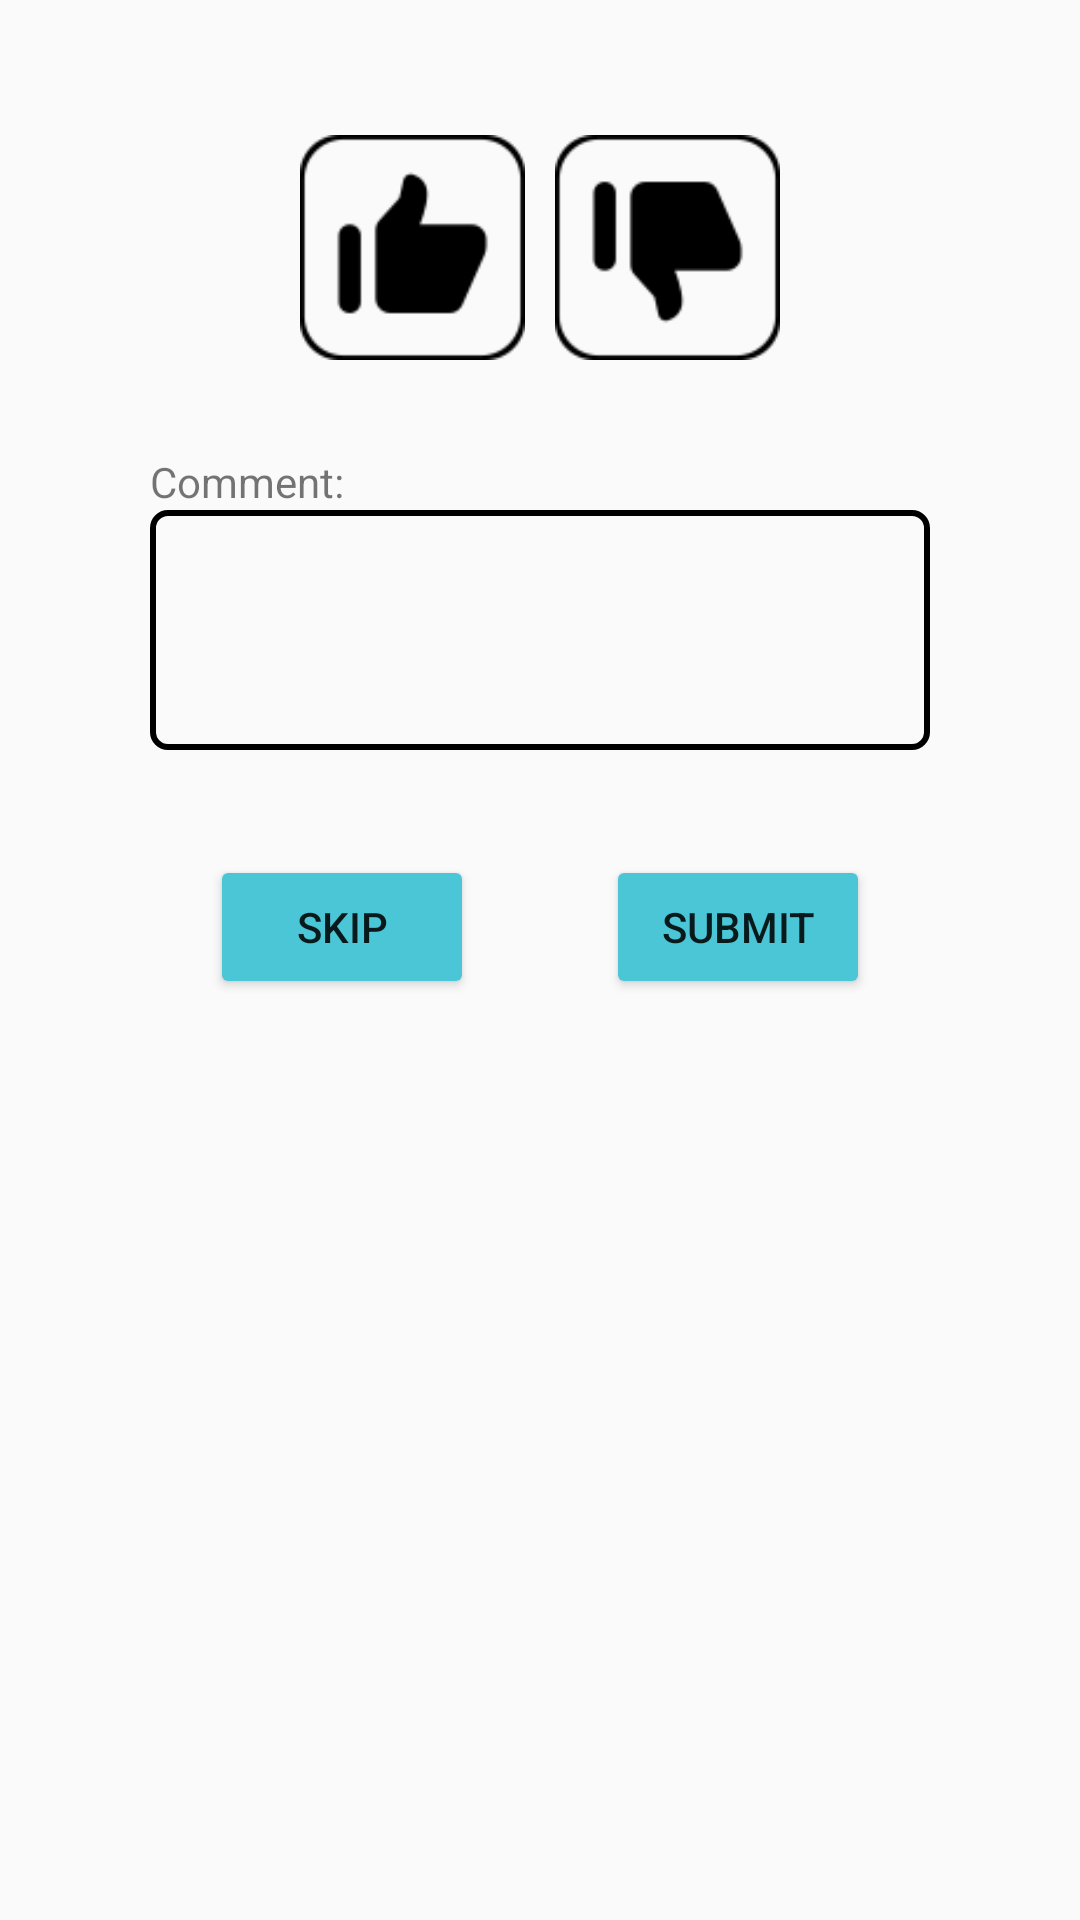

Where to tap for icons on this 1080w x 1920h app screen, as (x,y):
like: (412,247)
unlike: (667,247)
